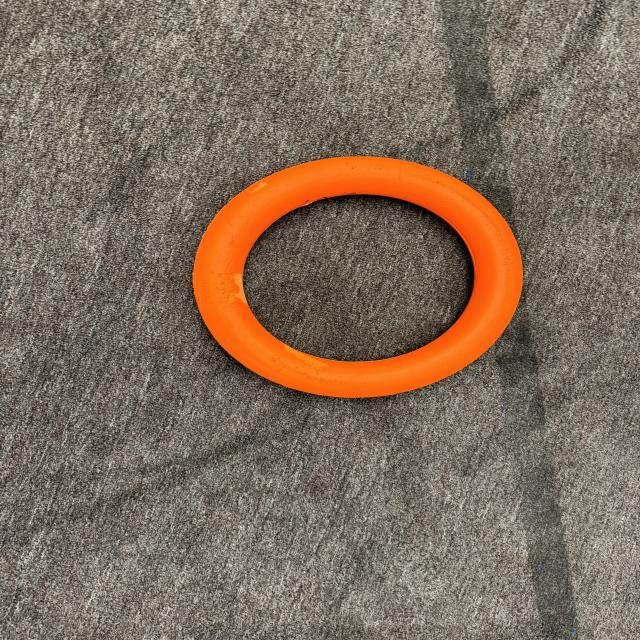note: (178, 141, 554, 411)
